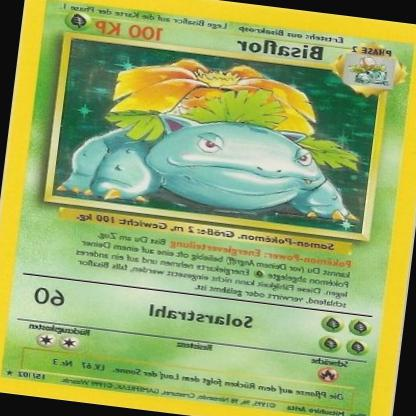Venusaur: (59, 50, 347, 226)
